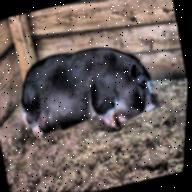boar: (9, 32, 167, 151)
